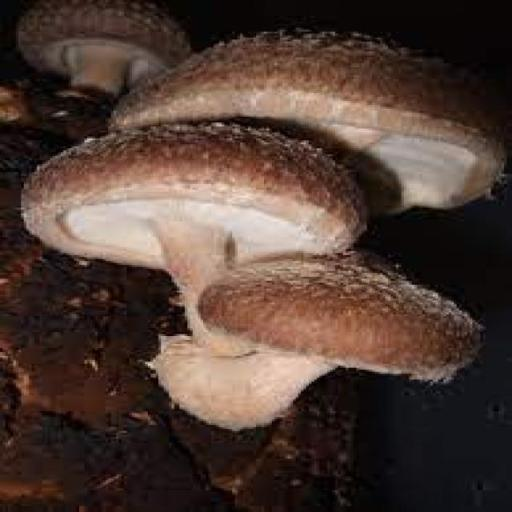Shiitake Mushroom: (113, 25, 512, 233), (20, 120, 368, 349), (152, 264, 483, 441), (3, 0, 185, 95)
